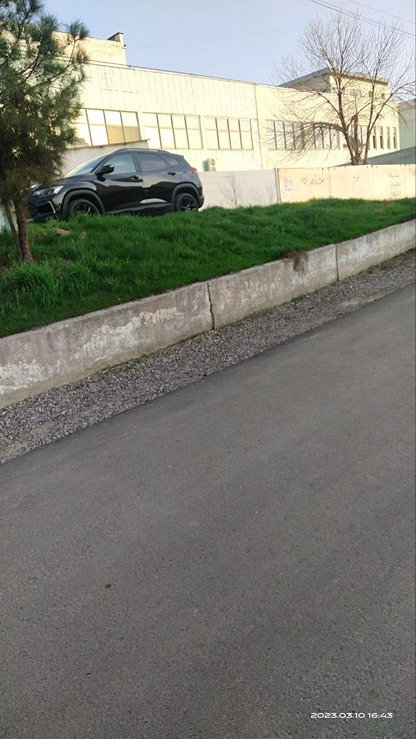car: (69, 128, 232, 225)
tree: (0, 0, 92, 272), (272, 7, 416, 173)
